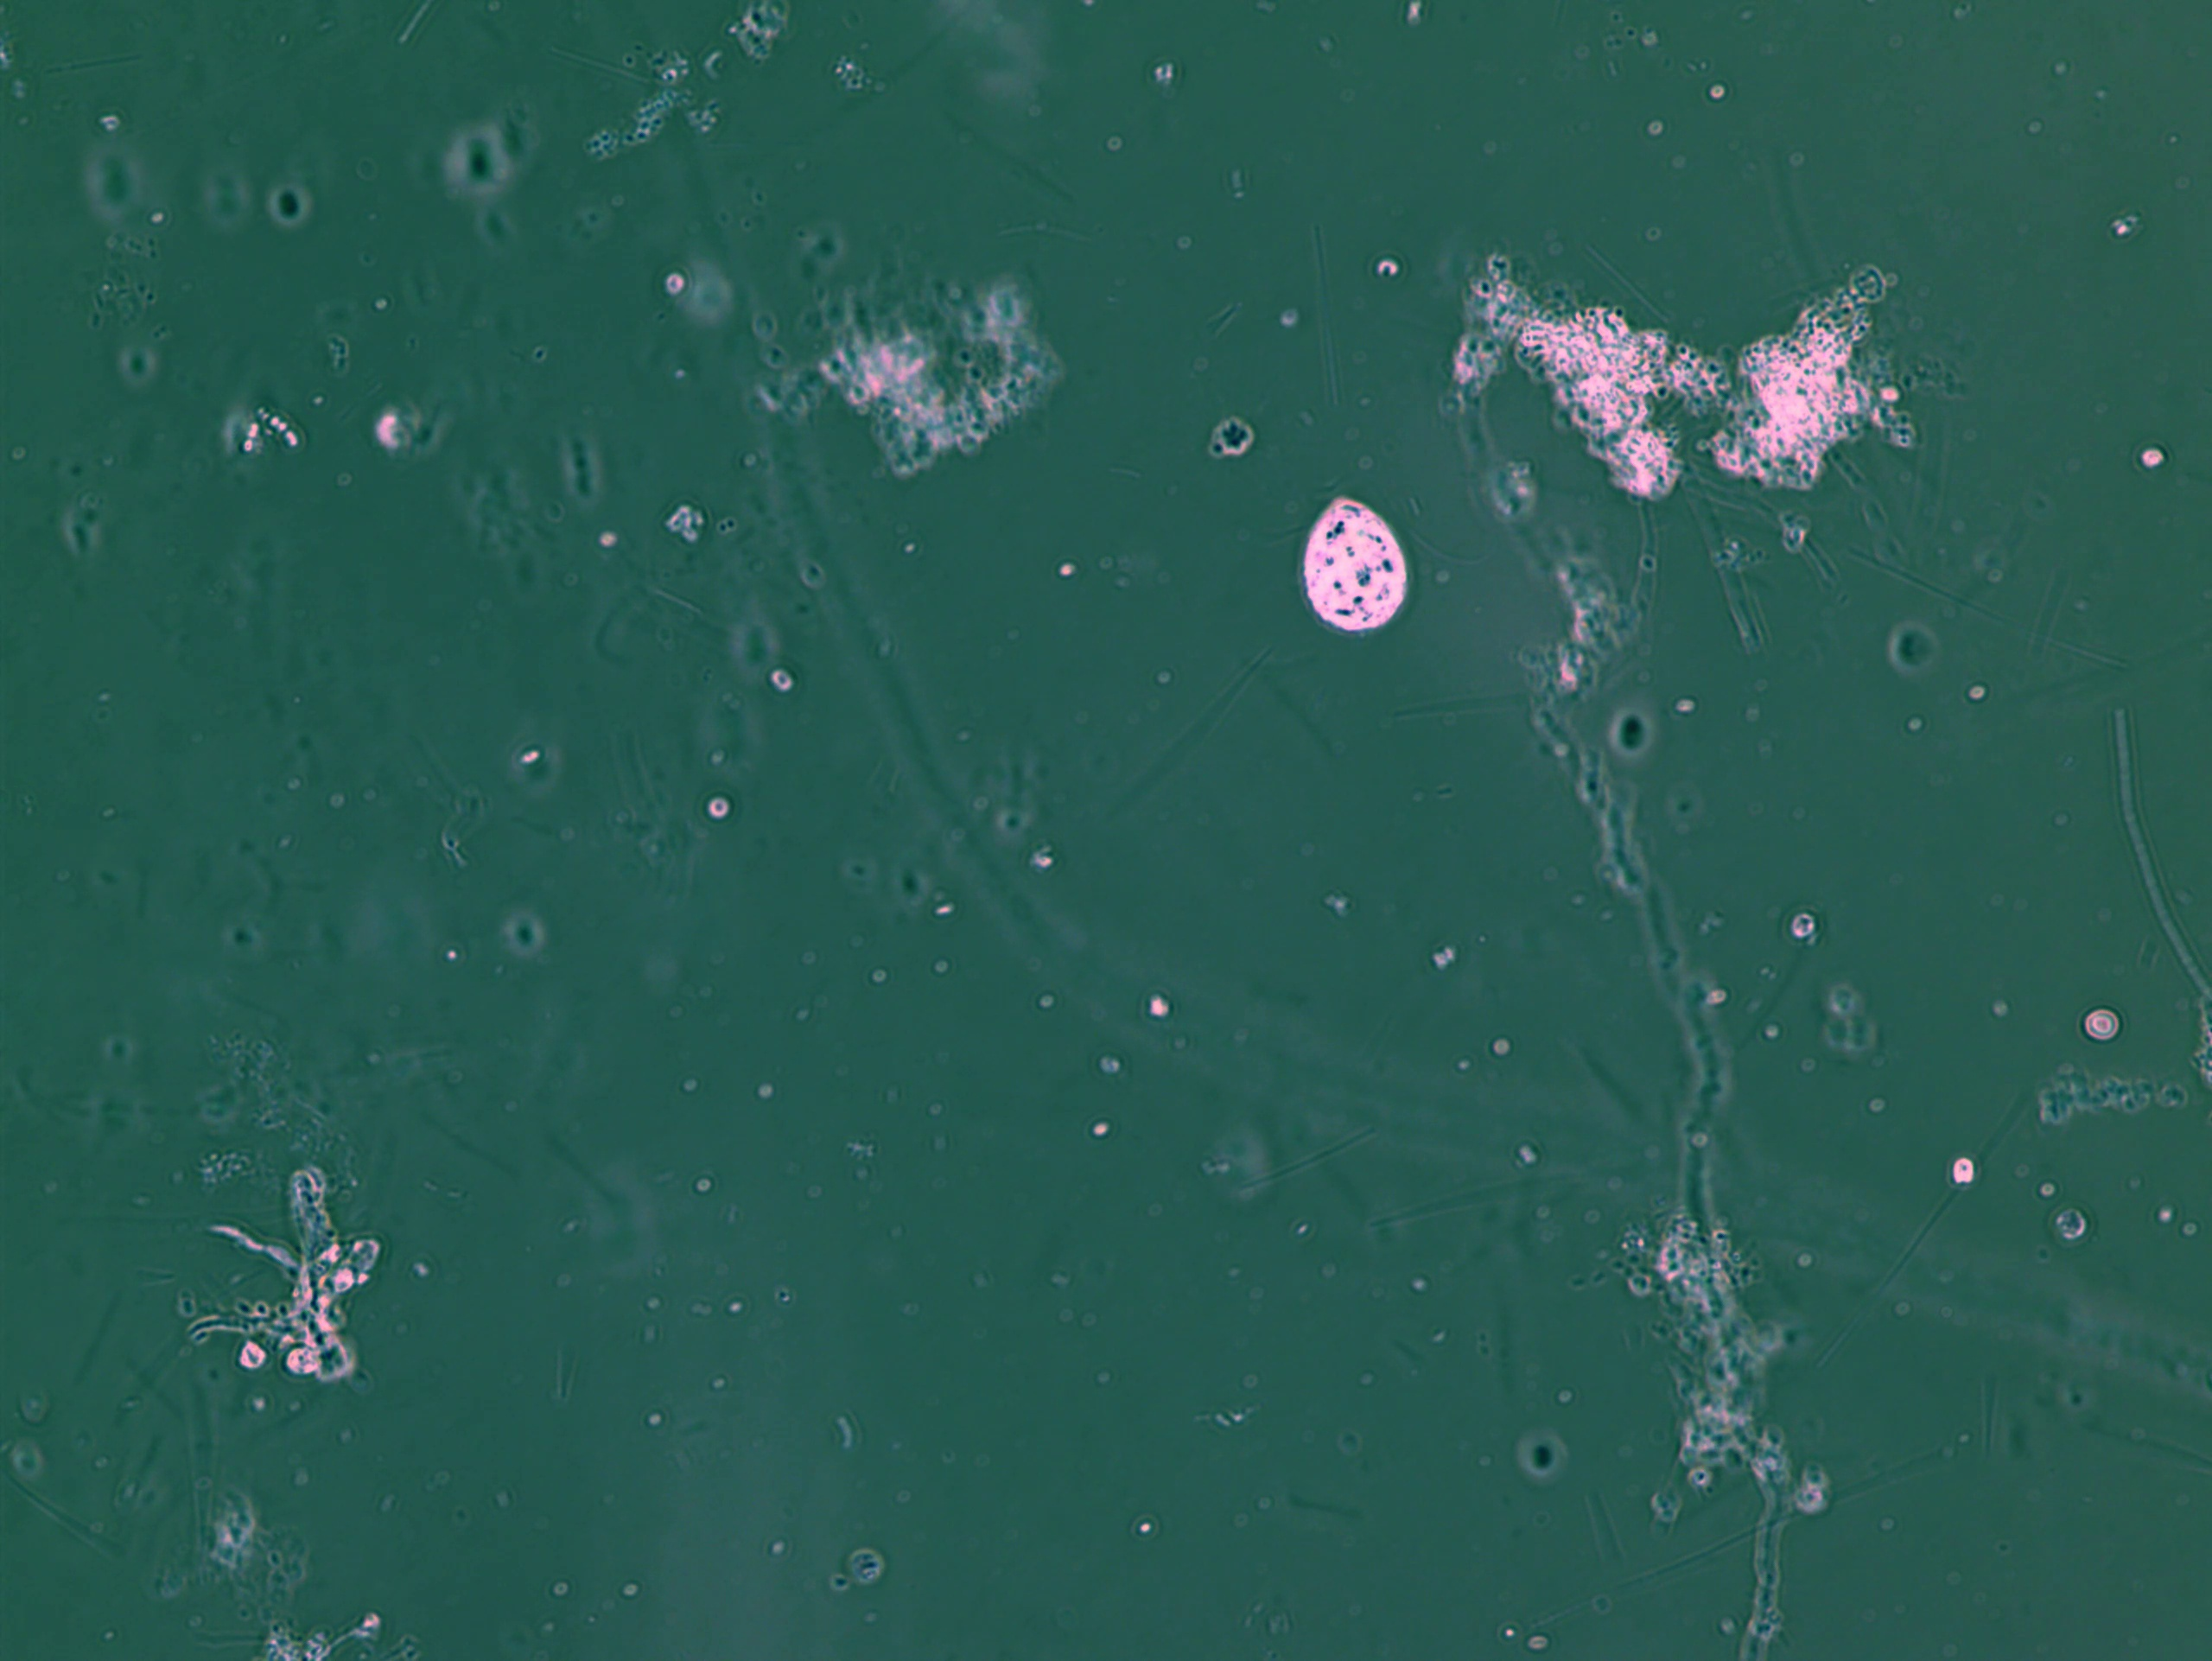depth:0: (1277, 473, 1439, 654)
